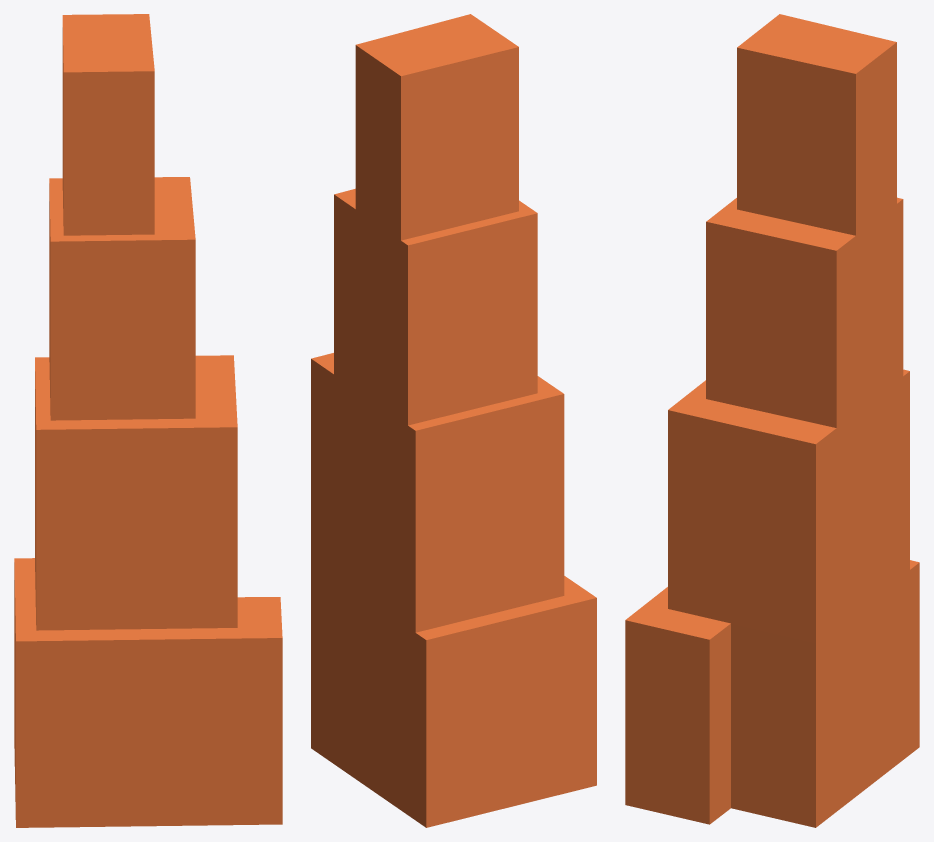
Rendered from kpf.obj.
The picture shows the model from 3 angles, left to right: view 1: azimuth 30°, elevation 25°; view 2: azimuth 150°, elevation 25°; view 3: azimuth 270°, elevation 25°; orthographic projection.
Bounding box in the file's own units: 89.6 × 249 × 91.9.
